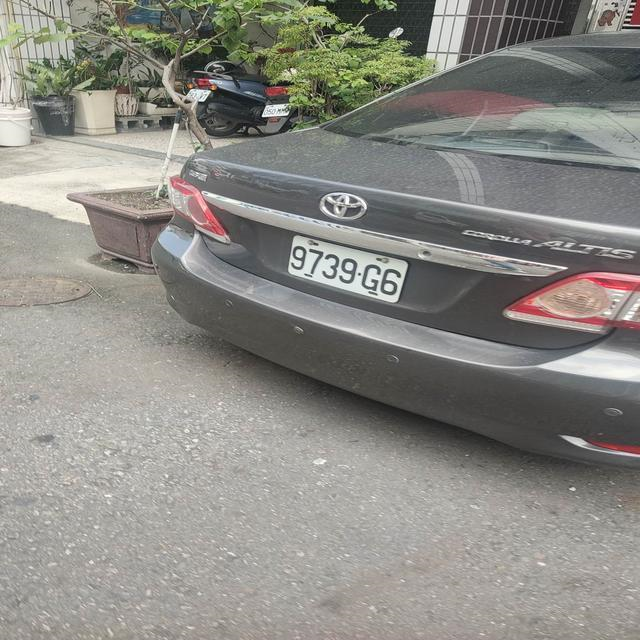license: (286, 240, 405, 301)
